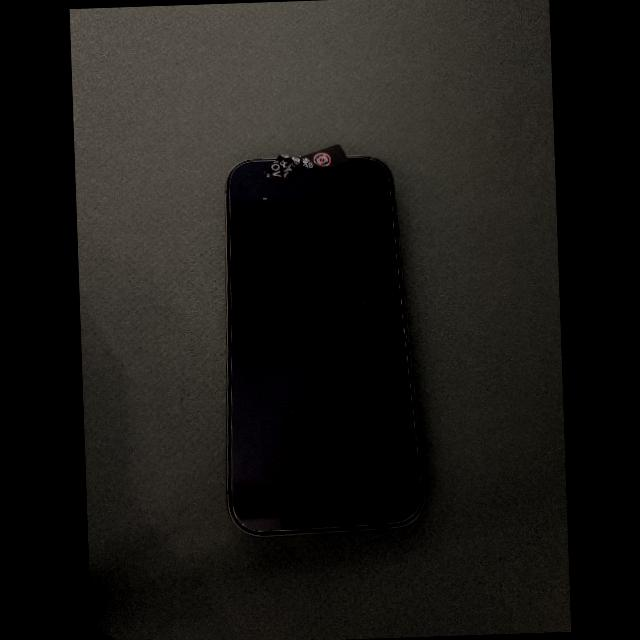phone: (224, 156, 426, 537)
sticker: (264, 144, 348, 186)
